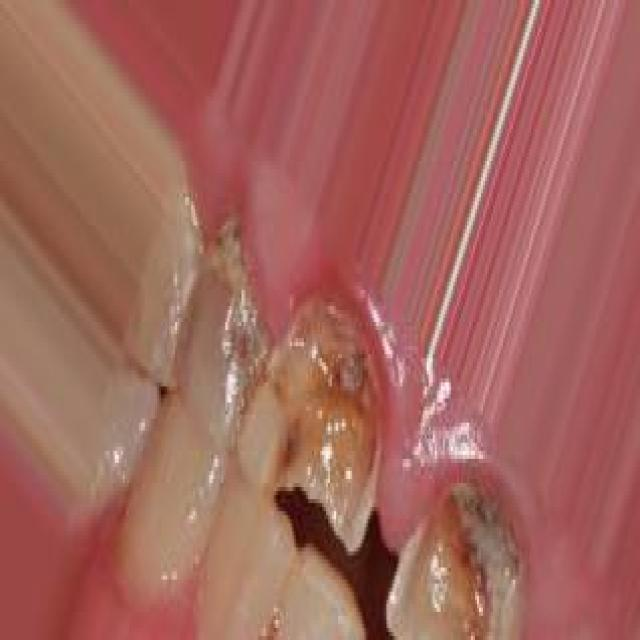caries: (250, 291, 384, 560), (390, 471, 532, 640)
